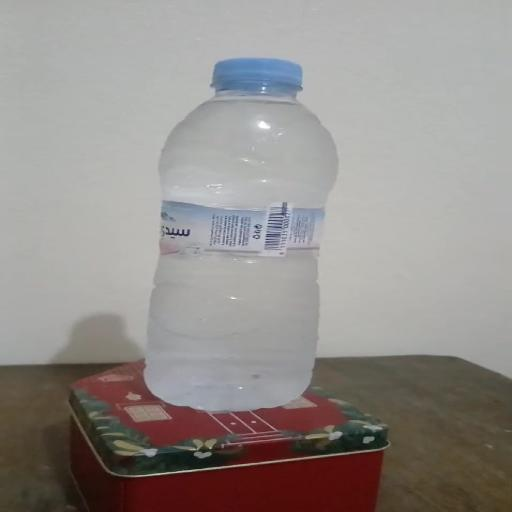bouteille conformite: (149, 58, 336, 410)
